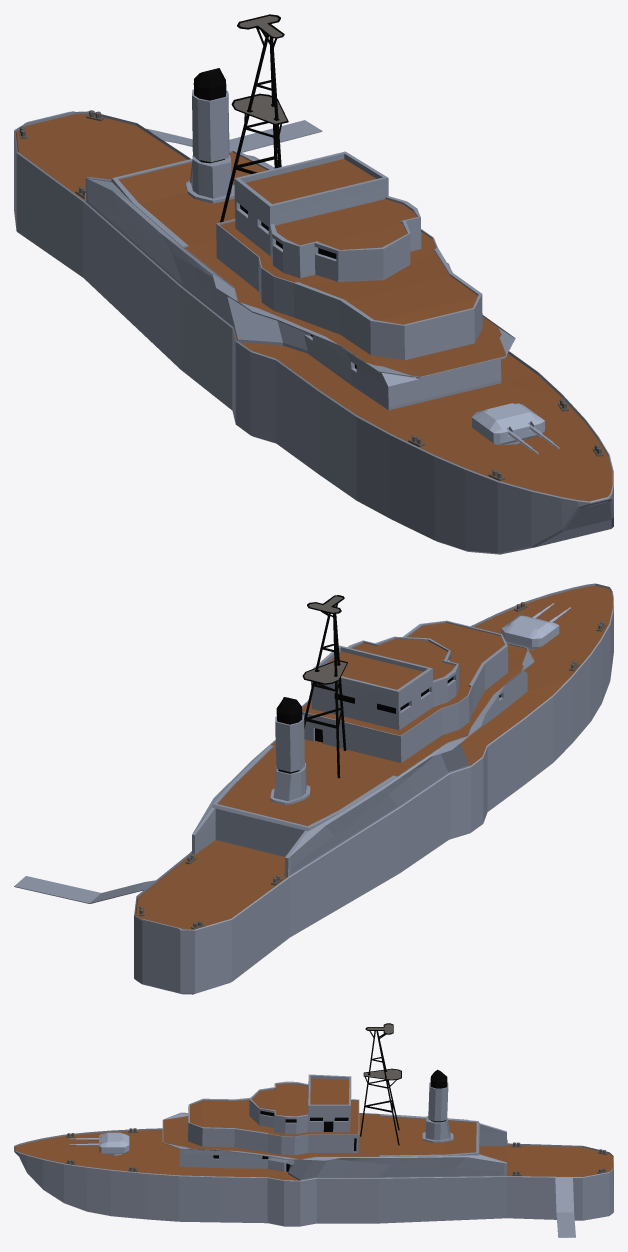
File: BuqueLOD_2.fbx
3 views of the same model, one above another, from view 1: azimuth 30°, elevation 25°; view 2: azimuth 150°, elevation 25°; view 3: azimuth 270°, elevation 25° (orthographic). The views are drawn at different scales.
Parts seen in each view (by area): view 1: Base_barco.171; view 2: Base_barco.171; view 3: Base_barco.171.
Part boxes in pixels (x1,y1,x2,y2): Base_barco.171: (14,14,613,554); Base_barco.171: (14,583,613,994); Base_barco.171: (14,1023,613,1237).
Bounding box in the file's own units: 5471 × 5315 × 16186.
